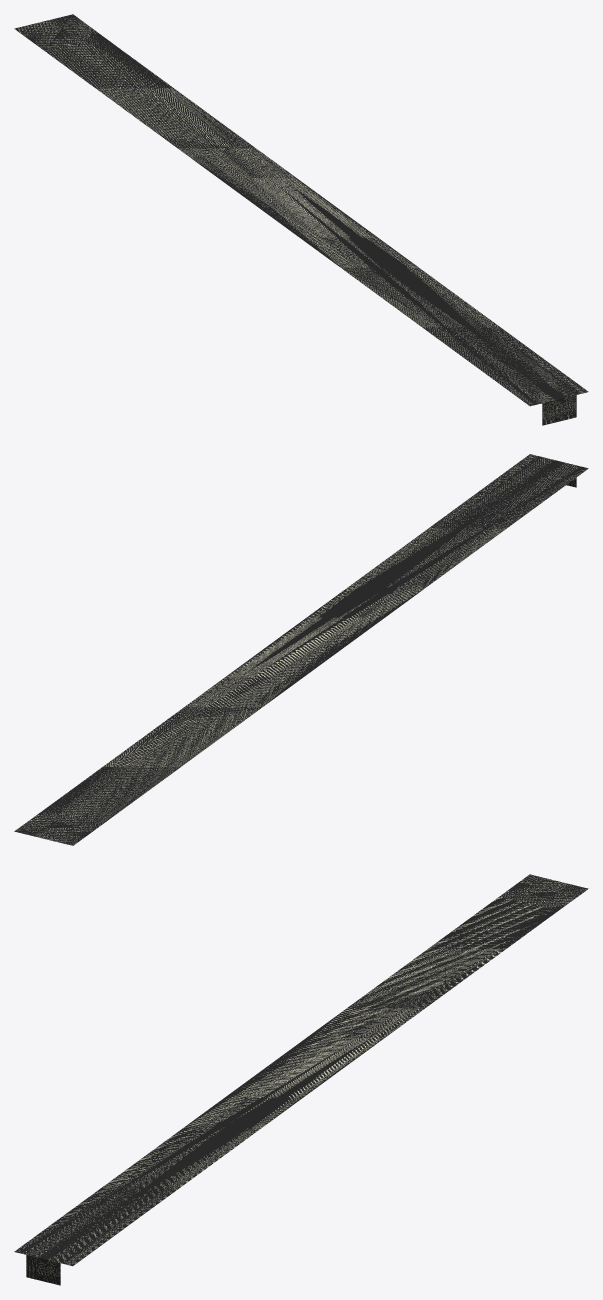
The model's file is original-3.obj.
3 views of the same model, one above another, from view 1: azimuth 30°, elevation 25°; view 2: azimuth 150°, elevation 25°; view 3: azimuth 330°, elevation 25° (orthographic).
Visible parts, largest first — view 1: Group4/mesh13/mesh13-geometry#mesh13-geometry; view 2: Group4/mesh13/mesh13-geometry#mesh13-geometry; view 3: Group4/mesh13/mesh13-geometry#mesh13-geometry.
Part boxes in pixels (bbox=[...]): Group4/mesh13/mesh13-geometry#mesh13-geometry: bbox=[14, 14, 588, 425]; Group4/mesh13/mesh13-geometry#mesh13-geometry: bbox=[14, 454, 588, 845]; Group4/mesh13/mesh13-geometry#mesh13-geometry: bbox=[14, 874, 588, 1285].
Size of the model in its own units: 0.089 by 0.0321 by 1.34.
